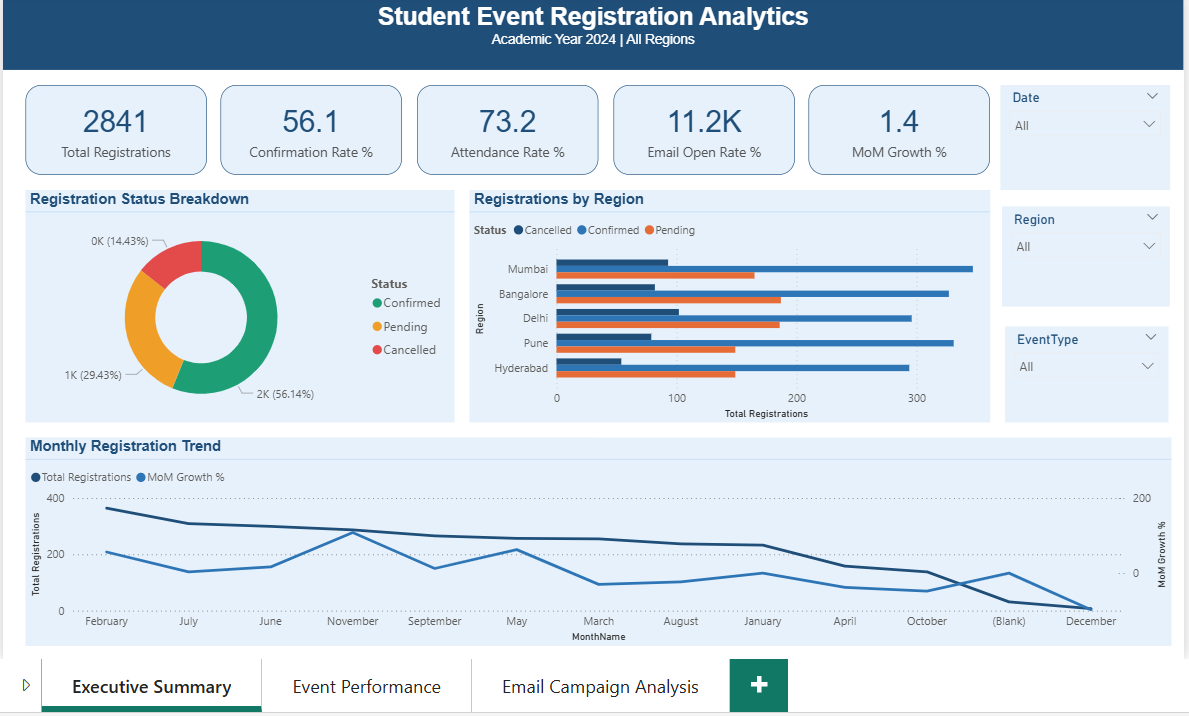

This screenshot's page, from the dashboard's own definition file:
{"tool":"powerbi","page":{"name":"Executive Summary","canvas":[1280,720],"ordinal":0},"visuals":[{"type":"textbox","box":[0,3.3,1280.1,78.1],"z":0},{"type":"card","fields":{"Values":["_Measures.Total Registrations"]},"box":[24.4,97.6,196.8,97.6],"z":1000},{"type":"donutChart","title":"Registration Status Breakdown","fields":{"Category":["Fact_Registrations.Status"],"Y":["_Measures.Total Registrations"]},"box":[24.4,211.5,465.2,252.1],"z":3000},{"type":"clusteredBarChart","title":"Registrations by Region","fields":{"Category":["Dim_Events.Region"],"Y":["_Measures.Total Registrations"],"Series":["Fact_Registrations.Status"]},"box":[505.9,211.5,564.4,252.1],"z":4000},{"type":"lineChart","title":"Monthly Registration Trend","fields":{"Category":["Dim_Date.MonthName"],"Y":["_Measures.Total Registrations"],"Y2":["_Measures.MoM Growth %"]},"box":[24.4,479.8,1242.7,226.1],"z":5000},{"type":"slicer","fields":{"Values":["Dim_Events.Region"]},"box":[1083.3,229.3,182.2,109],"z":6000},{"type":"slicer","fields":{"Values":["Dim_Events.EventType"]},"box":[1086.5,359.5,177.3,104.1],"z":7000},{"type":"slicer","fields":{"Values":["Dim_Date.Date"]},"box":[1081.7,97.6,183.8,113.9],"z":8000},{"type":"card","fields":{"Values":["_Measures.Confirmation Rate %"]},"box":[235.8,97.6,196.8,97.6],"z":9000},{"type":"card","fields":{"Values":["_Measures.Attendance Rate %"]},"box":[448.9,97.6,196.8,97.6],"z":10000},{"type":"card","fields":{"Values":["_Measures.Email Open Rate %"]},"box":[662,97.6,196.8,97.6],"z":11000},{"type":"card","fields":{"Values":["_Measures.MoM Growth %"]},"box":[873.5,97.6,196.8,97.6],"z":12000}]}

Visuals, with their boxes on the page's 1280x720 design canvas (x1, y1, x2, y2). These are canvas units, not pixel positions in the 1189x716 screenshot, which may show the page scaled, cropped or inside an application window:
textbox: select_region(0, 3, 1280, 81)
card - _Measures.Total Registrations: select_region(24, 98, 221, 195)
"Registration Status Breakdown" donutChart: select_region(24, 212, 490, 464)
"Registrations by Region" clusteredBarChart: select_region(506, 212, 1070, 464)
"Monthly Registration Trend" lineChart: select_region(24, 480, 1267, 706)
slicer - Dim_Events.Region: select_region(1083, 229, 1266, 338)
slicer - Dim_Events.EventType: select_region(1086, 360, 1264, 464)
slicer - Dim_Date.Date: select_region(1082, 98, 1266, 212)
card - _Measures.Confirmation Rate %: select_region(236, 98, 433, 195)
card - _Measures.Attendance Rate %: select_region(449, 98, 646, 195)
card - _Measures.Email Open Rate %: select_region(662, 98, 859, 195)
card - _Measures.MoM Growth %: select_region(874, 98, 1070, 195)
